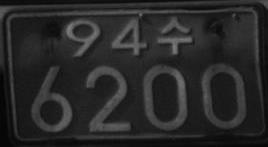0: (201, 62, 247, 130), (142, 63, 188, 130)
2: (85, 64, 132, 132)
4: (110, 18, 147, 55)
6: (30, 67, 73, 133)
9: (66, 18, 101, 56)
수: (157, 16, 193, 55)
